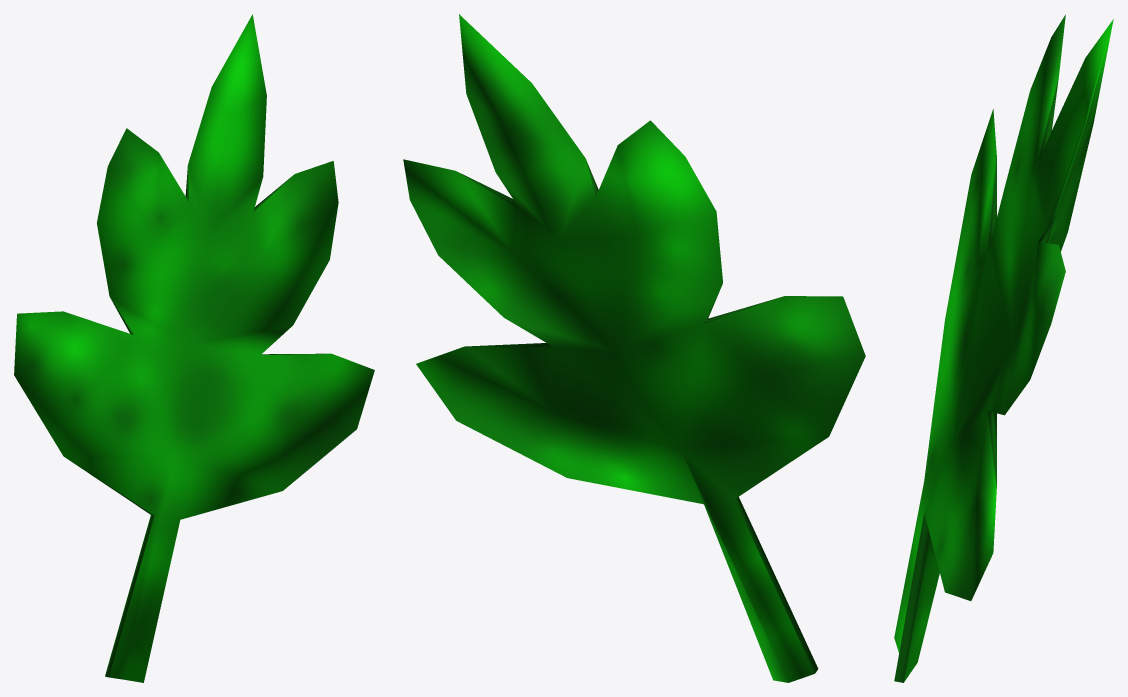
File: Grass_Item.fbx
The picture shows the model from 3 angles, left to right: view 1: azimuth 30°, elevation 25°; view 2: azimuth 150°, elevation 25°; view 3: azimuth 270°, elevation 25°; orthographic projection. The views are drawn at different scales.
Parts seen in each view (by area): view 1: 平面; view 2: 平面; view 3: 平面.
Part boxes in pixels (x1=…): 平面: x1=14, y1=14, x2=374, y2=682; 平面: x1=403, y1=14, x2=865, y2=682; 平面: x1=894, y1=14, x2=1113, y2=682.
Bounding box in the file's own units: 154 × 227 × 56.91.
